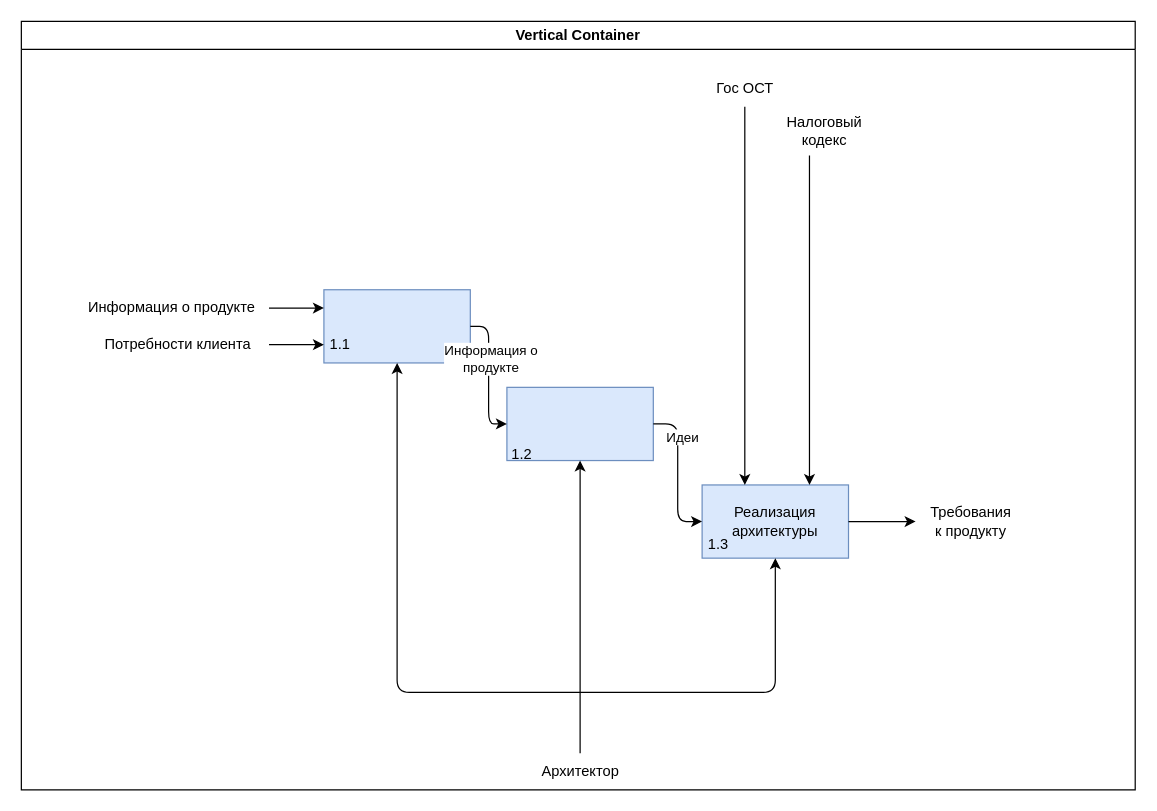
This 1157x811 diagram has some shape labels left out. The box of each missing label's shape, as (x1, y1, x2, y2) in pixels:
Обдумывание архитектуры: (506, 386, 653, 461)
Получение информации о продукте: (323, 289, 470, 363)
